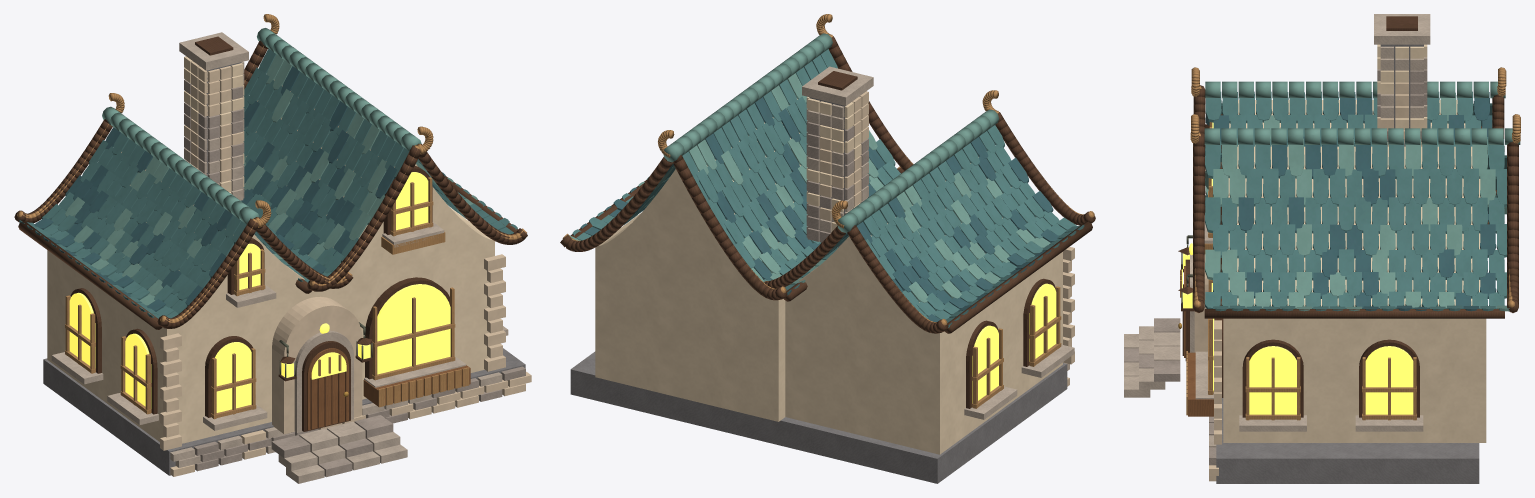
File: house_main.glb
3 views of the same model, side by side, from view 1: azimuth 30°, elevation 25°; view 2: azimuth 150°, elevation 25°; view 3: azimuth 270°, elevation 25° (orthographic). The views are drawn at different scales.
Parts seen in each view (by area): view 1: house_main; view 2: house_main; view 3: house_main.
Boxes of the visible parts, x1=… form: house_main: x1=14, y1=14, x2=531, y2=483; house_main: x1=560, y1=14, x2=1095, y2=483; house_main: x1=1124, y1=14, x2=1520, y2=483.
Bounding box in the file's own units: 10.41 × 8.76 × 9.05.
14 materials, 11 textured.
